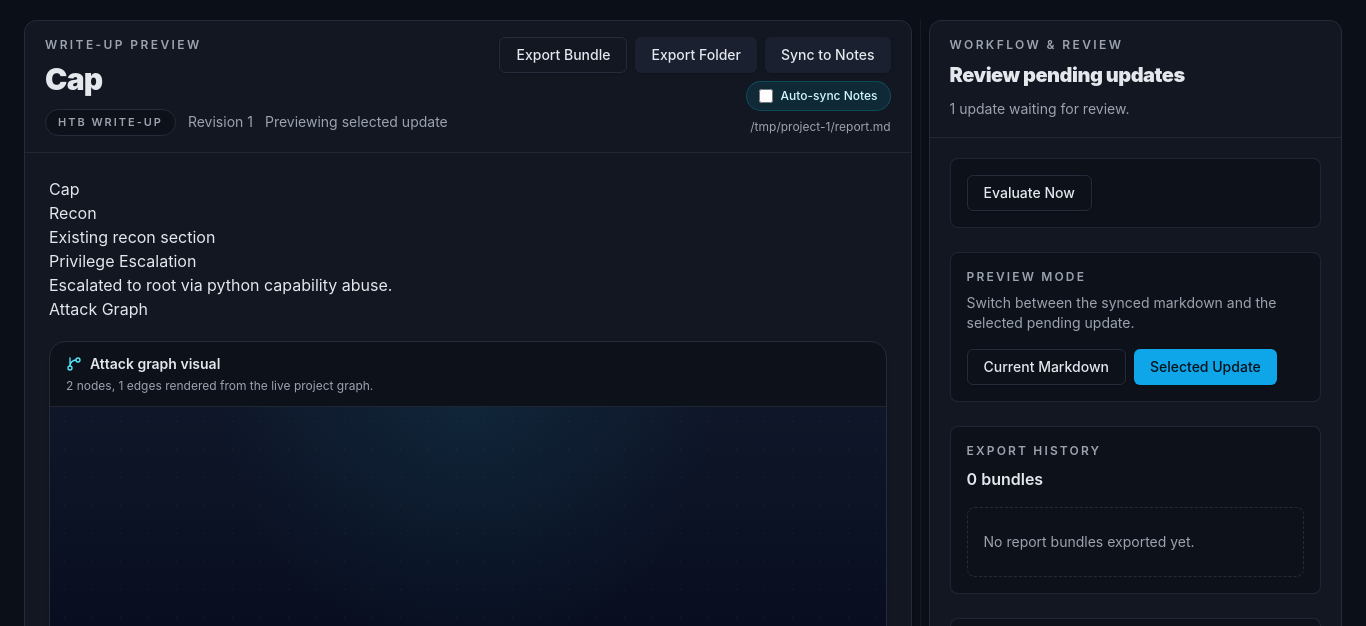
Test: ReportsPage › shows backend details when folder export fails
The image size is (1366, 626).
What coordinates should you click on to do the following:
click the button "Export Folder"
I would click on:
 (696, 55)
Its box is [635, 37, 757, 73].
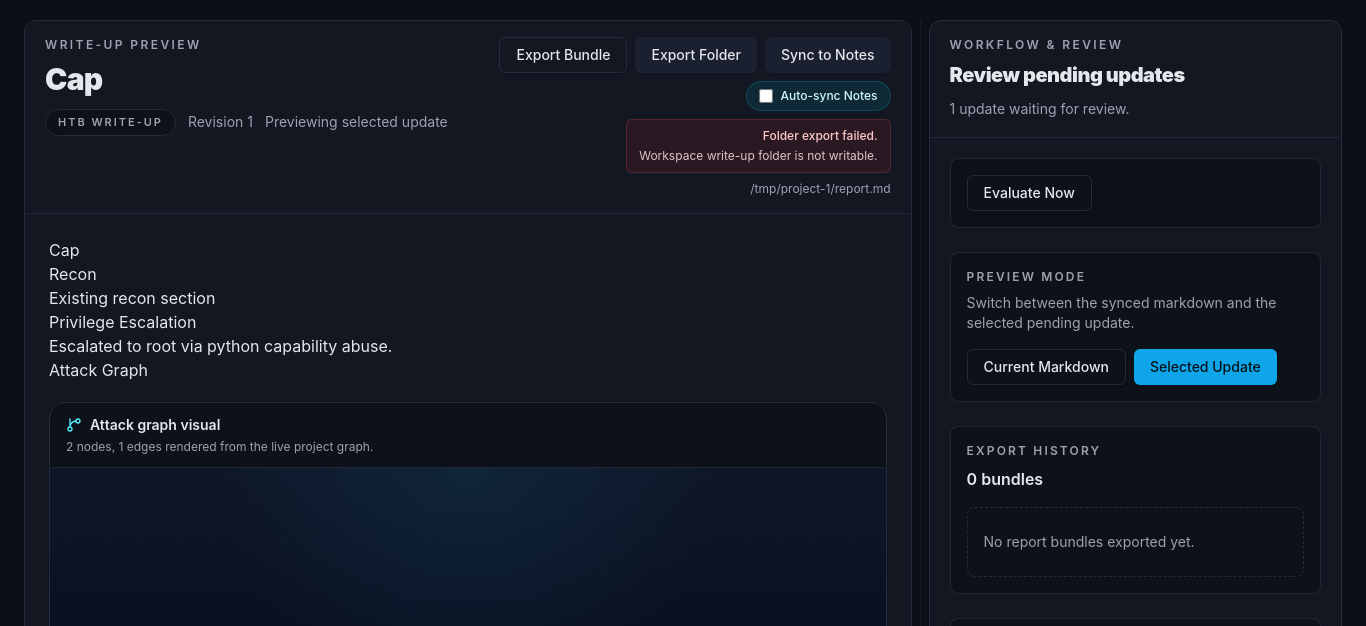
expect the text "Folder export failed." is shown: met, box [763, 128, 878, 143]
expect the text "Workspace write-up folder is not writable." is shown: met, box [639, 148, 878, 164]
